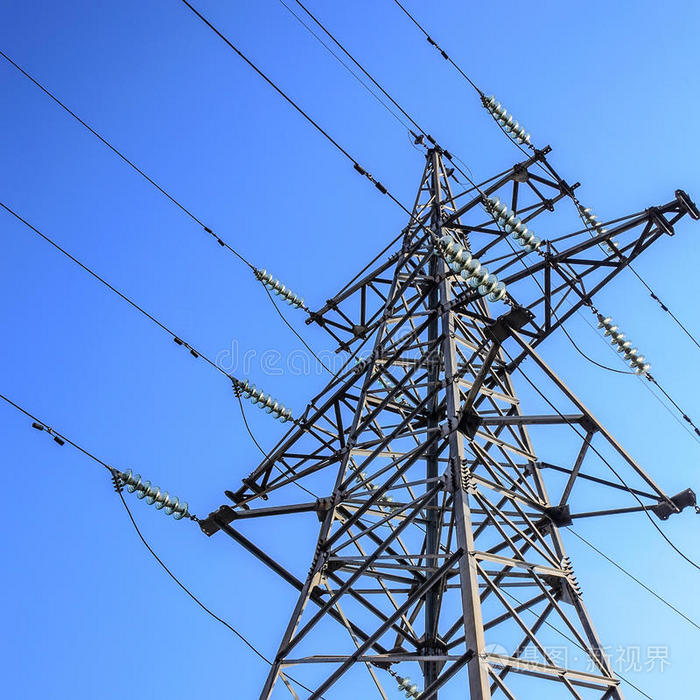insulator: (432, 238, 504, 305), (117, 468, 191, 518), (596, 317, 651, 375), (484, 196, 541, 251), (484, 94, 535, 145), (250, 266, 307, 311), (239, 382, 292, 423), (583, 204, 621, 252), (392, 676, 421, 700)
